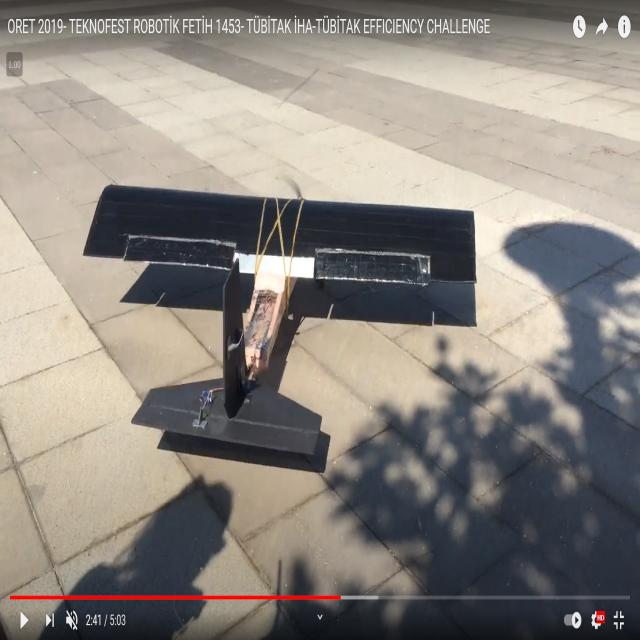iha: (83, 180, 473, 468)
